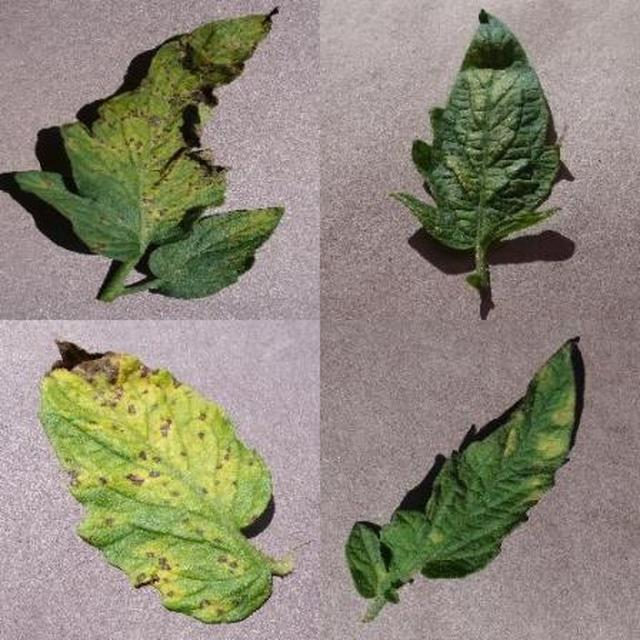Septoria Leaf: (214, 185, 640, 640)
